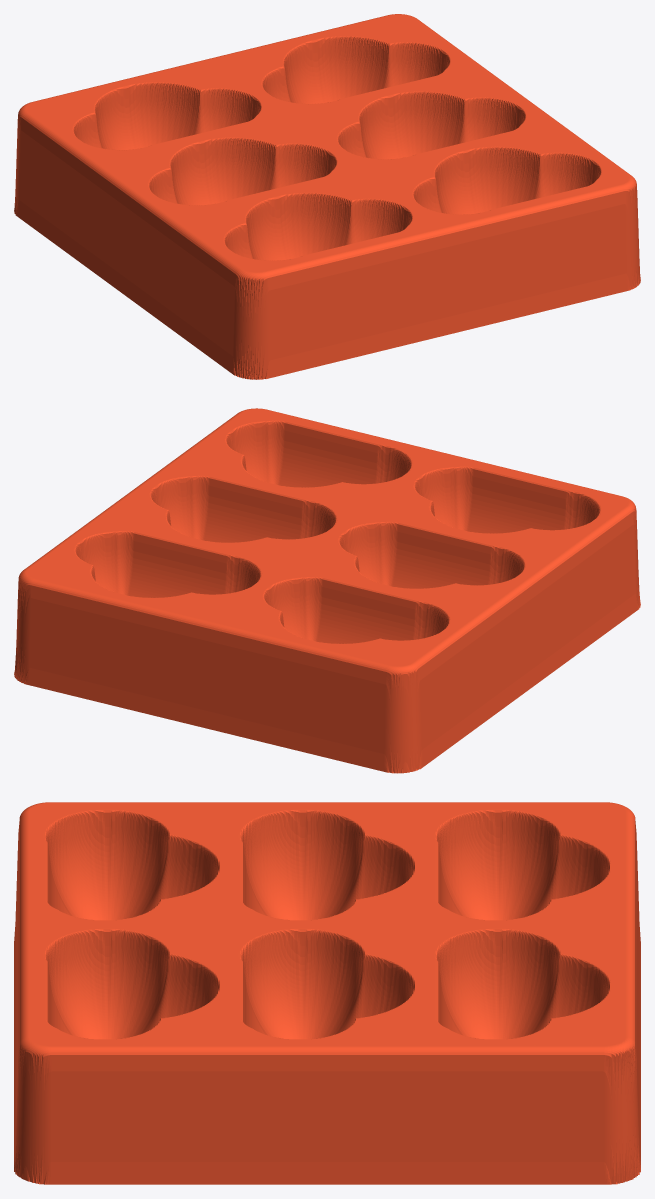
The model's file is mold.glb.
3 renders of one model, top to bottom at view 1: azimuth 30°, elevation 25°; view 2: azimuth 150°, elevation 25°; view 3: azimuth 270°, elevation 25°, orthographic. The views are drawn at different scales.
Parts seen in each view (by area): view 1: geometry_0; view 2: geometry_0; view 3: geometry_0.
Boxes of the visible parts, left/top/right/bottom form: geometry_0: left=14, top=14, right=640, bottom=379; geometry_0: left=14, top=408, right=640, bottom=773; geometry_0: left=14, top=802, right=640, bottom=1184.
Bounding box in the file's own units: 0.1492 × 0.036 × 0.1546.
